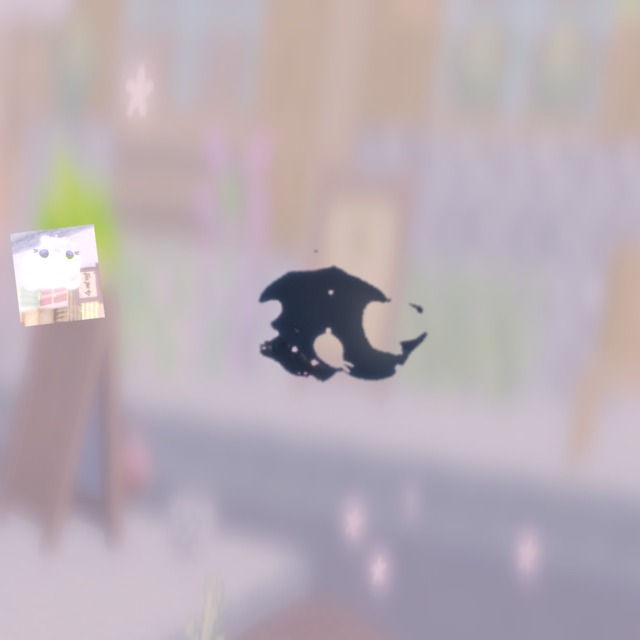urso_branco: (10, 224, 105, 327)
urso_preto: (209, 216, 467, 436)
